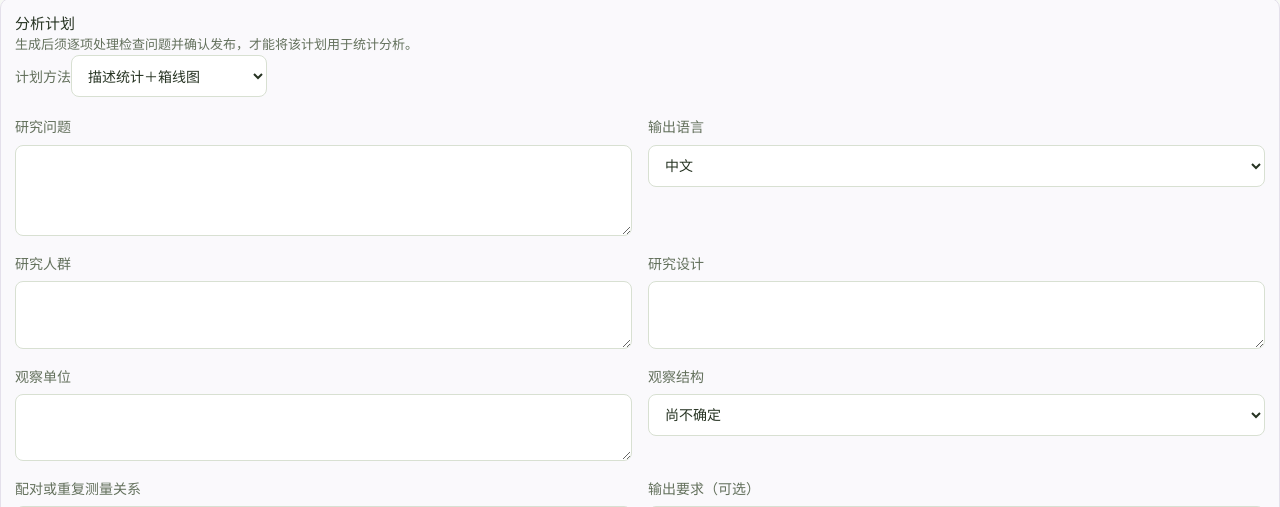
rejects a same-source v2-to-v1 downgrade from create without sending decisions
The image size is (1280, 507).
Type "Synthetic study" into the text box labelled "研究问题". click: (324, 190)
box: [15, 144, 632, 236]
(page scrolled)
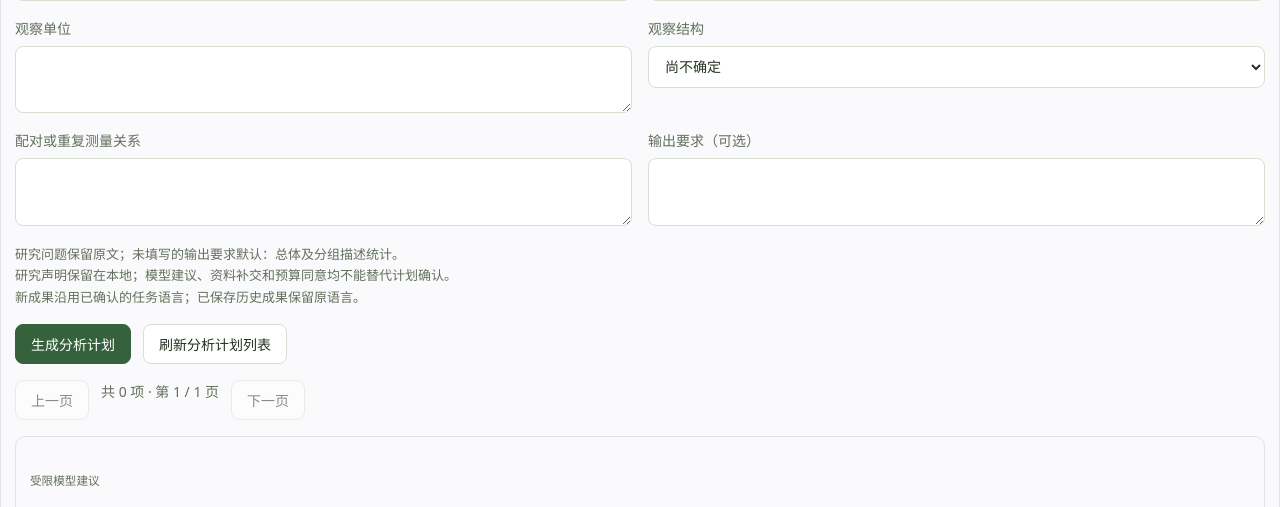
Click the button "生成分析计划". click: (73, 344)
box: [15, 324, 131, 364]
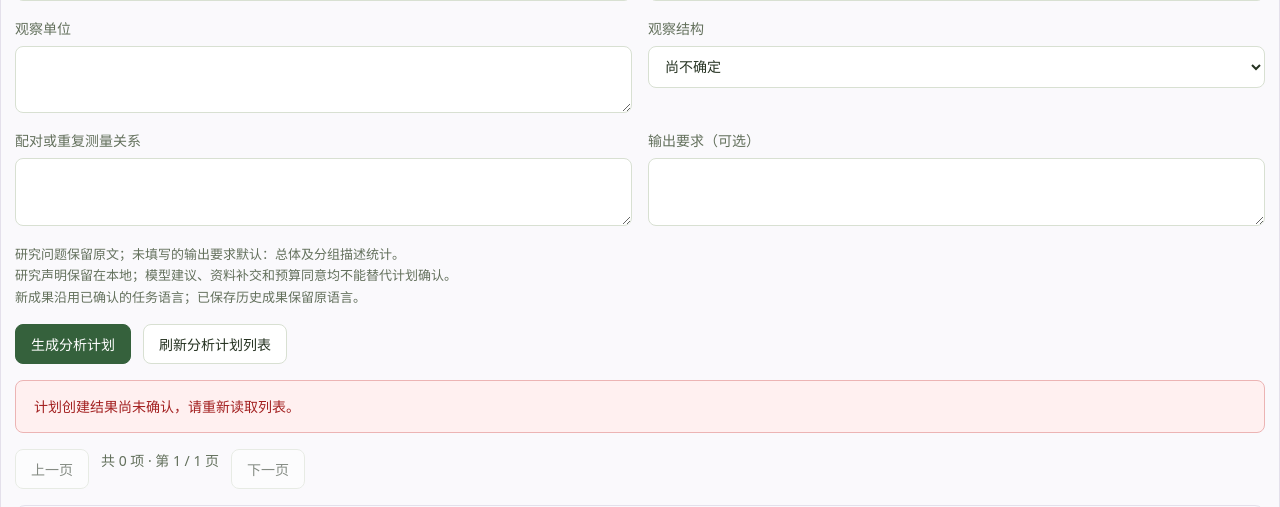
Now the message "计划创建结果尚未确认，请重新读取列表。" is shown, box [15, 380, 1265, 433]
